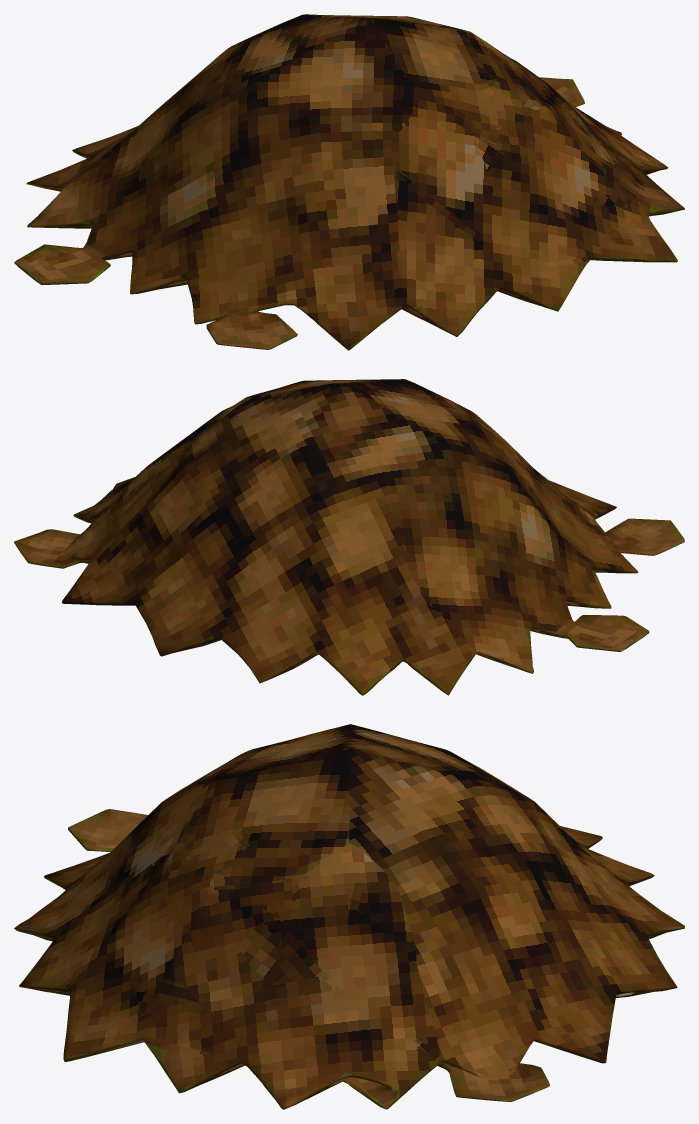
The model's file is dirt_mound_psx.glb.
3 views of the same model, one above another, from view 1: azimuth 30°, elevation 25°; view 2: azimuth 150°, elevation 25°; view 3: azimuth 270°, elevation 25° (orthographic). The views are drawn at different scales.
Parts seen in each view (by area): view 1: dirt_mound_geo; view 2: dirt_mound_geo; view 3: dirt_mound_geo.
Boxes of the visible parts, x1=… form: dirt_mound_geo: x1=14, y1=14, x2=684, y2=350; dirt_mound_geo: x1=14, y1=379, x2=684, y2=695; dirt_mound_geo: x1=14, y1=724, x2=684, y2=1109.
Size of the model in its own units: 0.4 by 0.1225 by 0.3441.
Materials: 1 (1 with a texture image).
